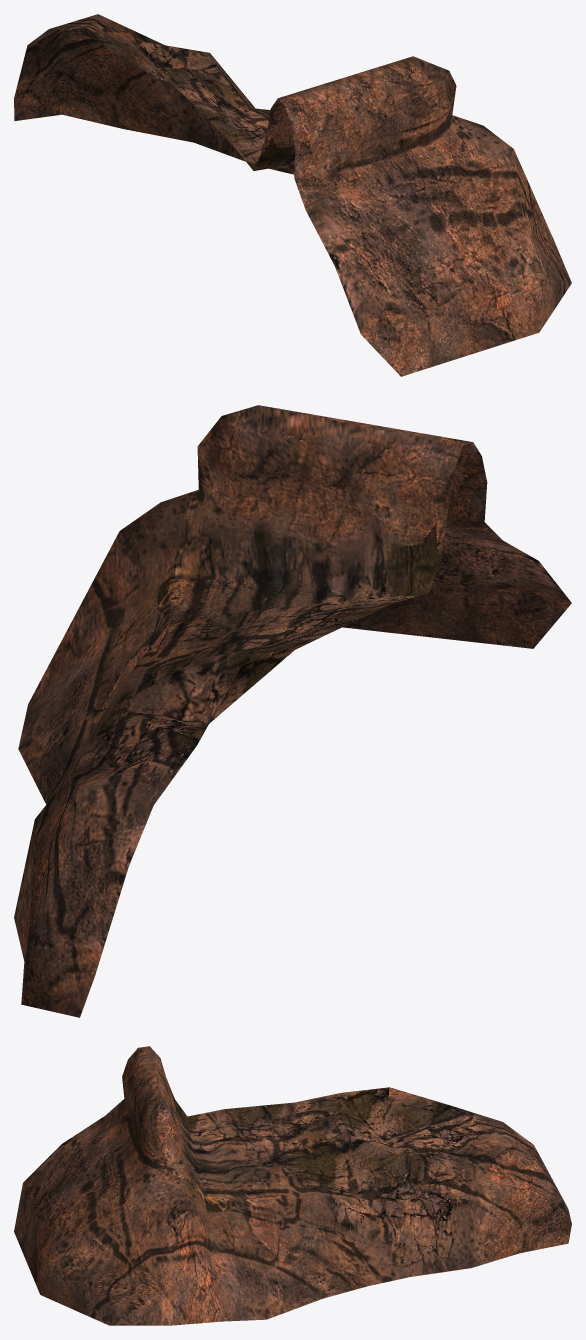
File: object_126.001_lev2.glb
3 renders of one model, top to bottom at view 1: azimuth 30°, elevation 25°; view 2: azimuth 150°, elevation 25°; view 3: azimuth 270°, elevation 25°, orthographic. The views are drawn at different scales.
Visible parts, largest first — view 1: object_126.001_lev2; view 2: object_126.001_lev2; view 3: object_126.001_lev2.
Part boxes in pixels (x1,y1,x2,y2): object_126.001_lev2: (14,14,571,376); object_126.001_lev2: (14,405,571,1017); object_126.001_lev2: (14,1046,571,1325).
Size of the model in its own units: 13.25 by 10.16 by 28.59.
1 material, 1 textured.
